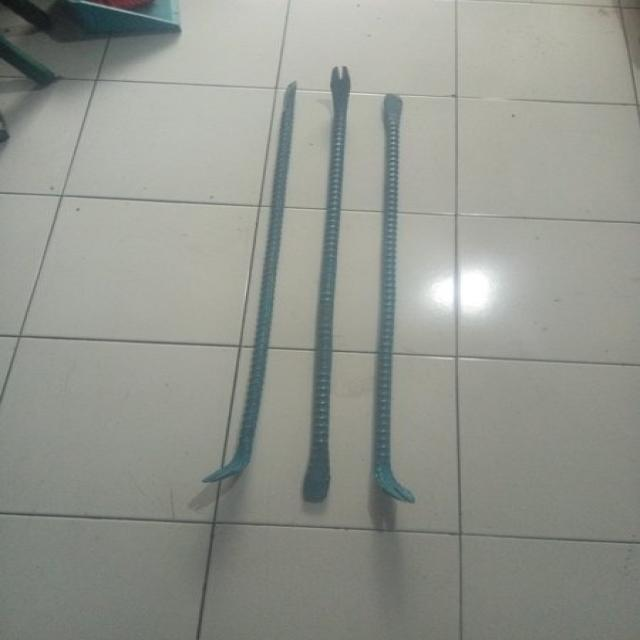Linggis: (180, 80, 311, 498), (356, 71, 428, 512), (297, 41, 356, 508)
